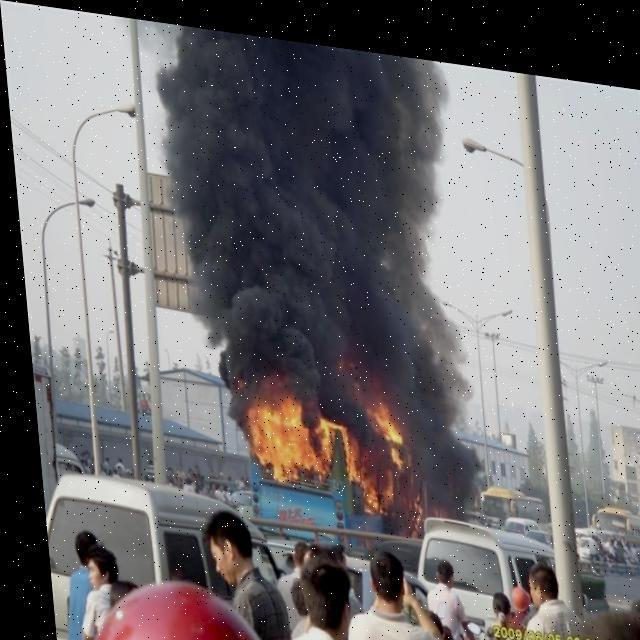Fire: (225, 333, 444, 525)
